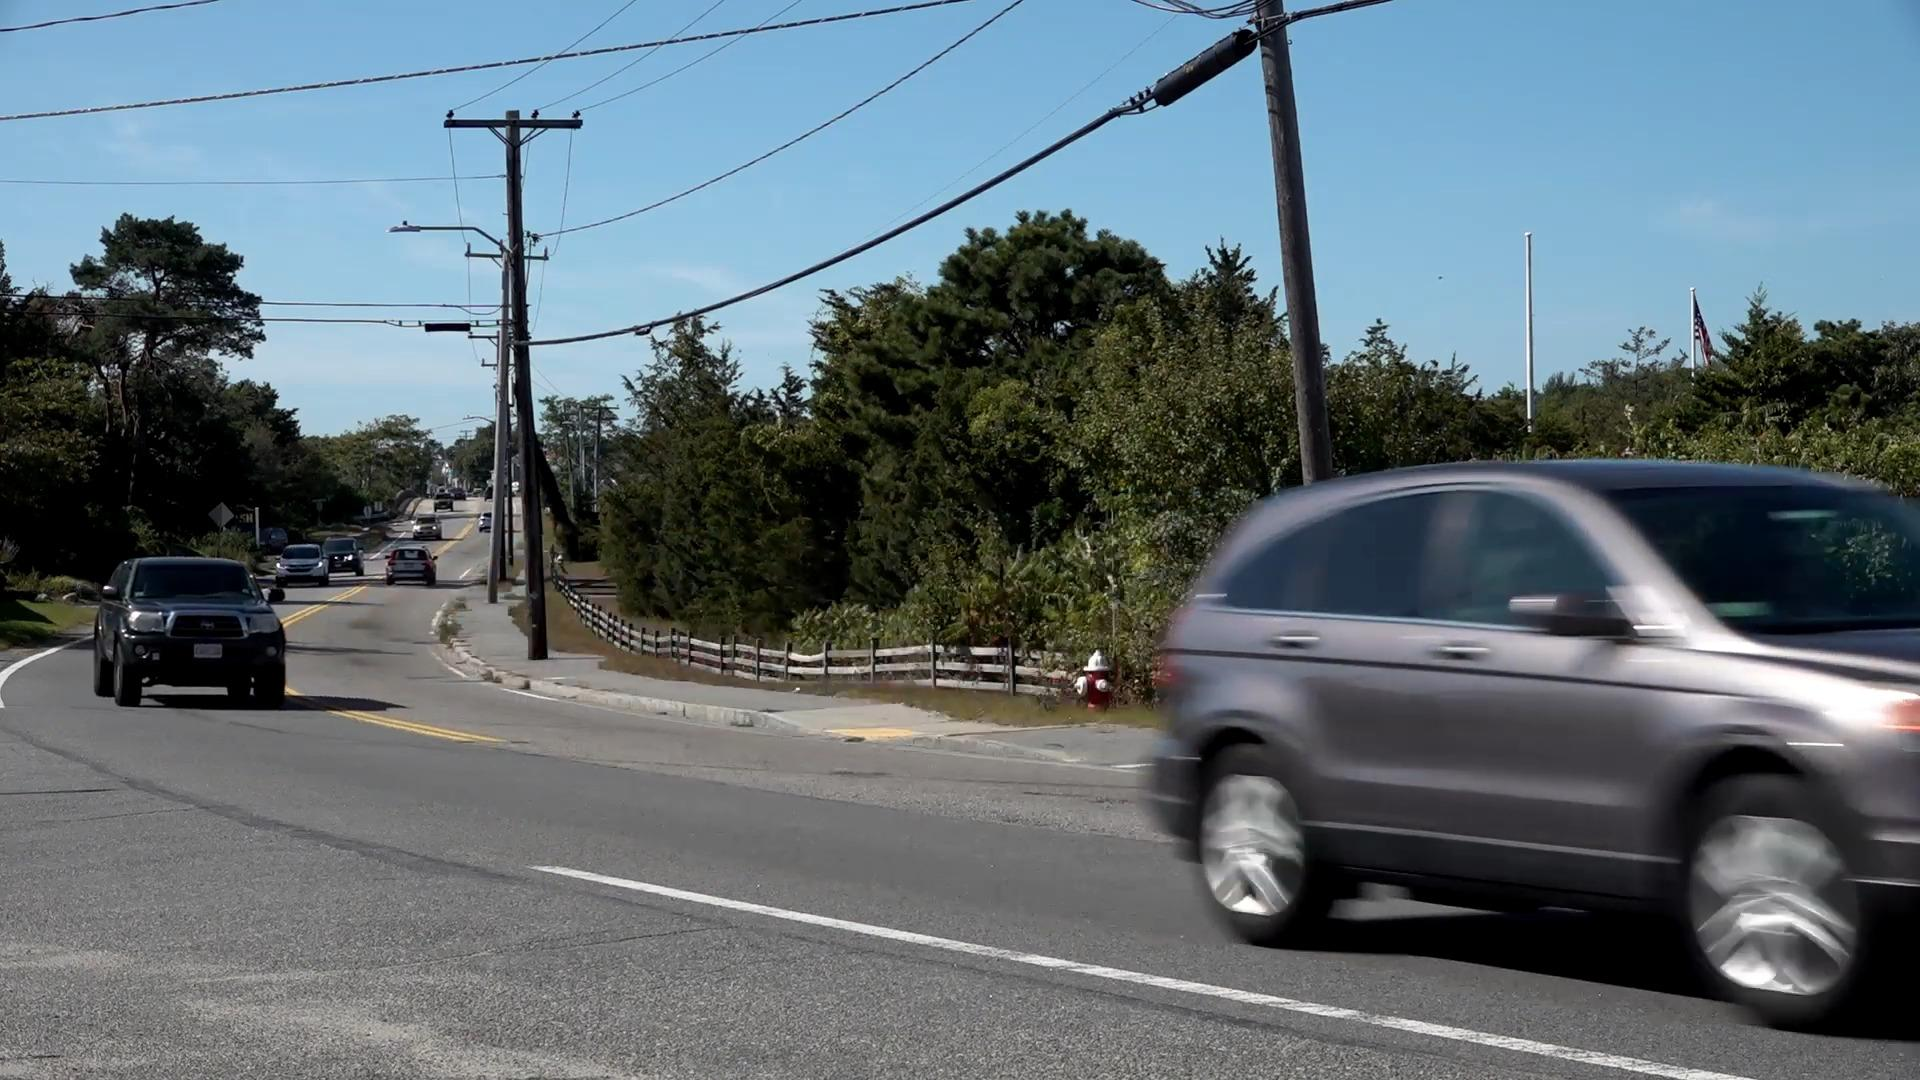pickup: (98, 551, 287, 713)
suv: (1150, 455, 1920, 1017)
